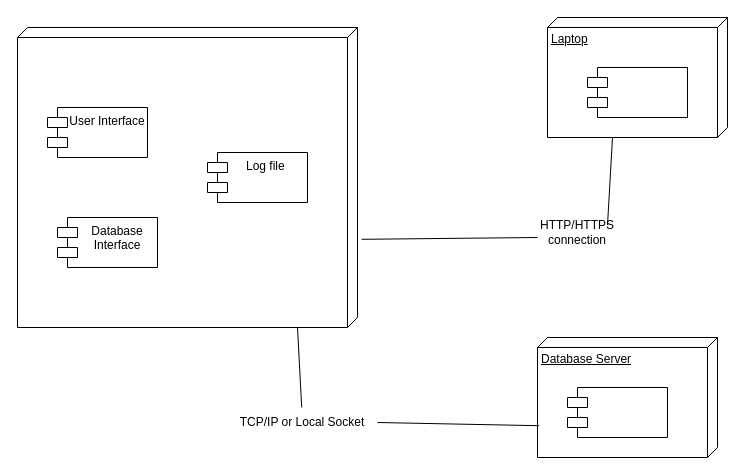
This 745x475 diagram has some shape labels left out. Each missing label, with the box of its shape:
MySql: (566, 386, 668, 438)
Web browser: (586, 66, 688, 118)
Web Server: (16, 26, 358, 328)
